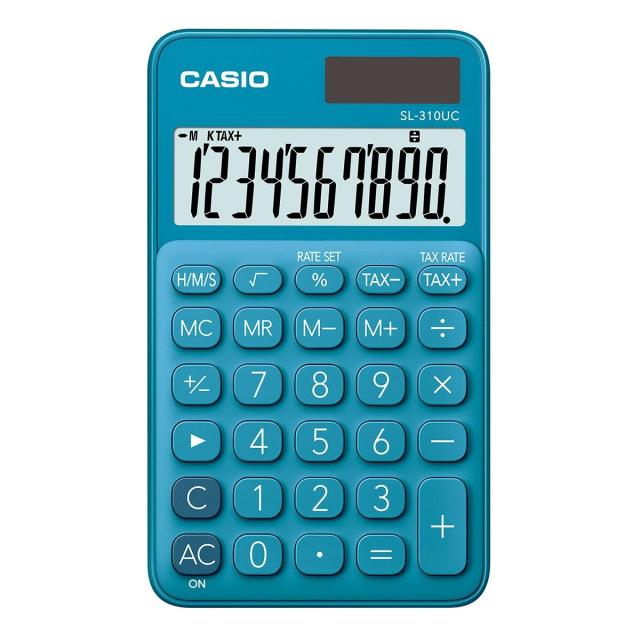Calculator: (105, 0, 562, 640)
